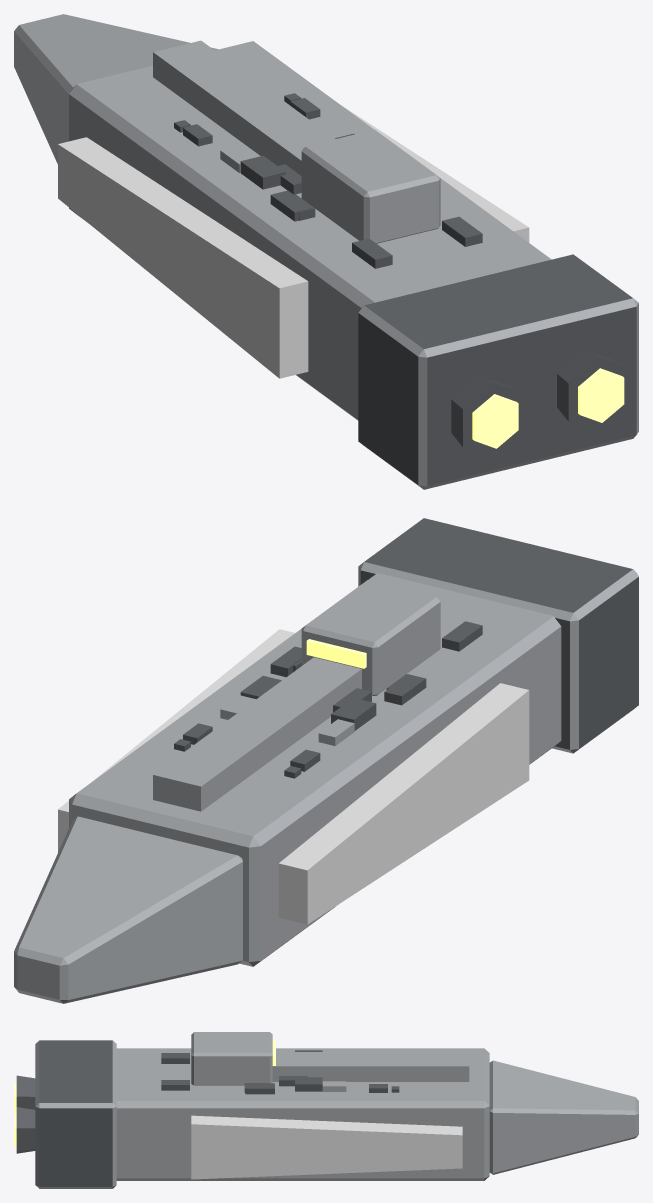
The model's file is human_frigate_mk1.glb.
3 renders of one model, top to bottom at view 1: azimuth 30°, elevation 25°; view 2: azimuth 150°, elevation 25°; view 3: azimuth 270°, elevation 25°, orthographic. The views are drawn at different scales.
Visible parts, largest first — view 1: human_frigate_mk1_LOD0; view 2: human_frigate_mk1_LOD0; view 3: human_frigate_mk1_LOD0.
Part boxes in pixels (x1,y1,x2,y2): human_frigate_mk1_LOD0: (14,14,638,489); human_frigate_mk1_LOD0: (14,518,638,1003); human_frigate_mk1_LOD0: (14,1032,638,1188).
Size of what is drawn, in the model's own units: 2.6 by 1.87 by 9.22.
